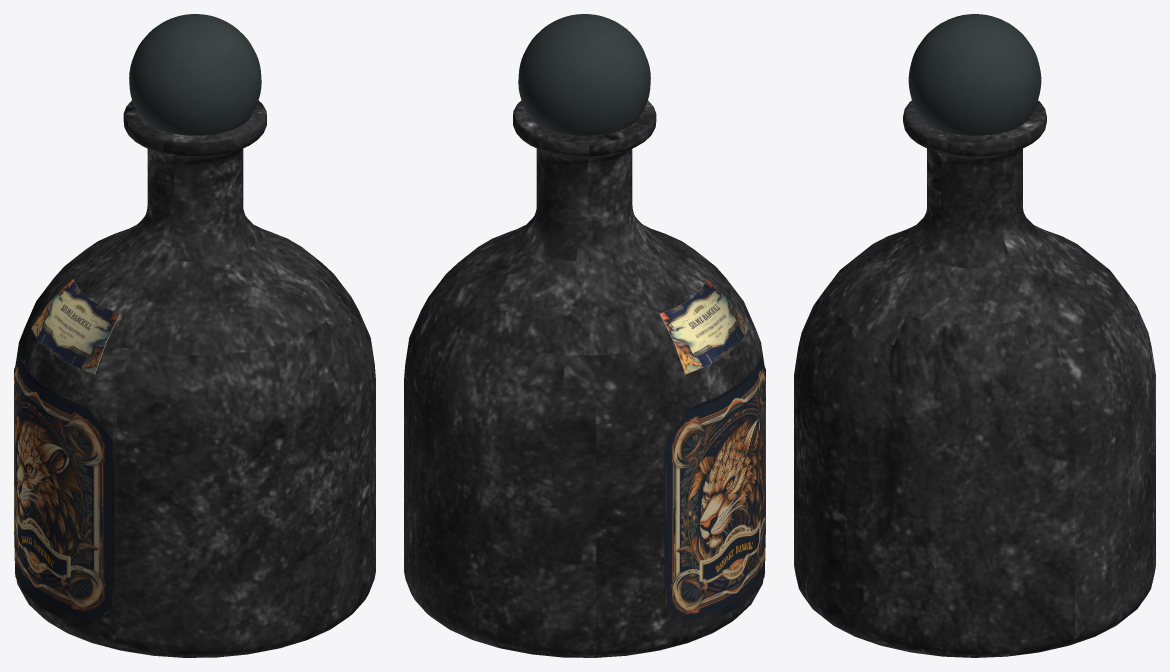
Rendered from SM_Bottle_03.fbx.
3 views of the same model, side by side, from view 1: azimuth 30°, elevation 25°; view 2: azimuth 150°, elevation 25°; view 3: azimuth 270°, elevation 25° (orthographic).
Visible parts, largest first — view 1: SM_Bottle_03; view 2: SM_Bottle_03; view 3: SM_Bottle_03.
Part boxes in pixels (x1,y1,x2,y2): SM_Bottle_03: (14,14,375,657); SM_Bottle_03: (404,14,765,657); SM_Bottle_03: (794,14,1155,657).
Size of the model in its own units: 10.64 by 10.61 by 18.46.
Materials: 2 (2 with a texture image).
